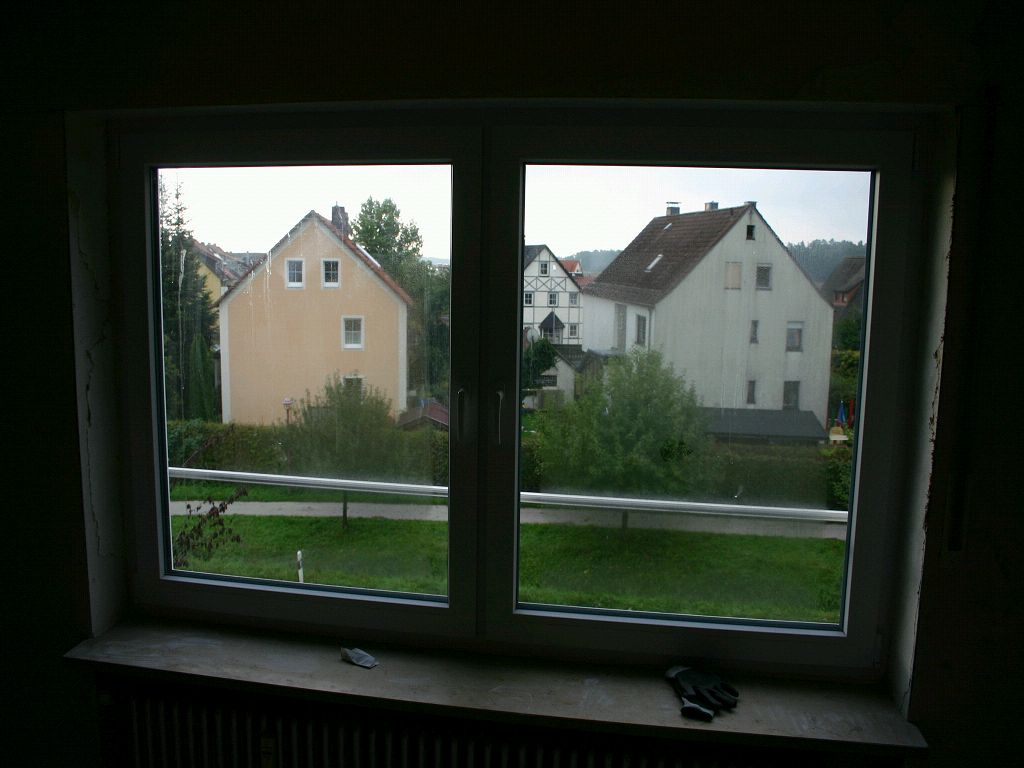windows: (148, 165, 880, 660)
